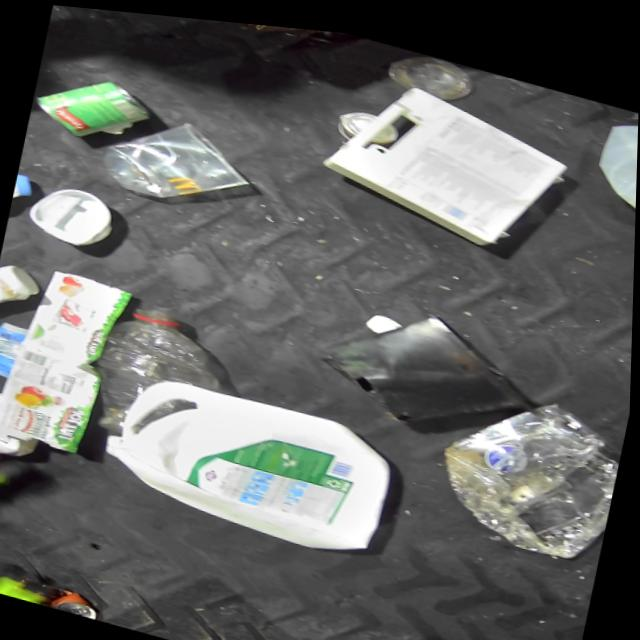can: (27, 57, 144, 148), (59, 582, 105, 617)
milk_jug: (106, 365, 391, 552), (585, 99, 639, 222)
plastic_bottle: (83, 286, 175, 438)
